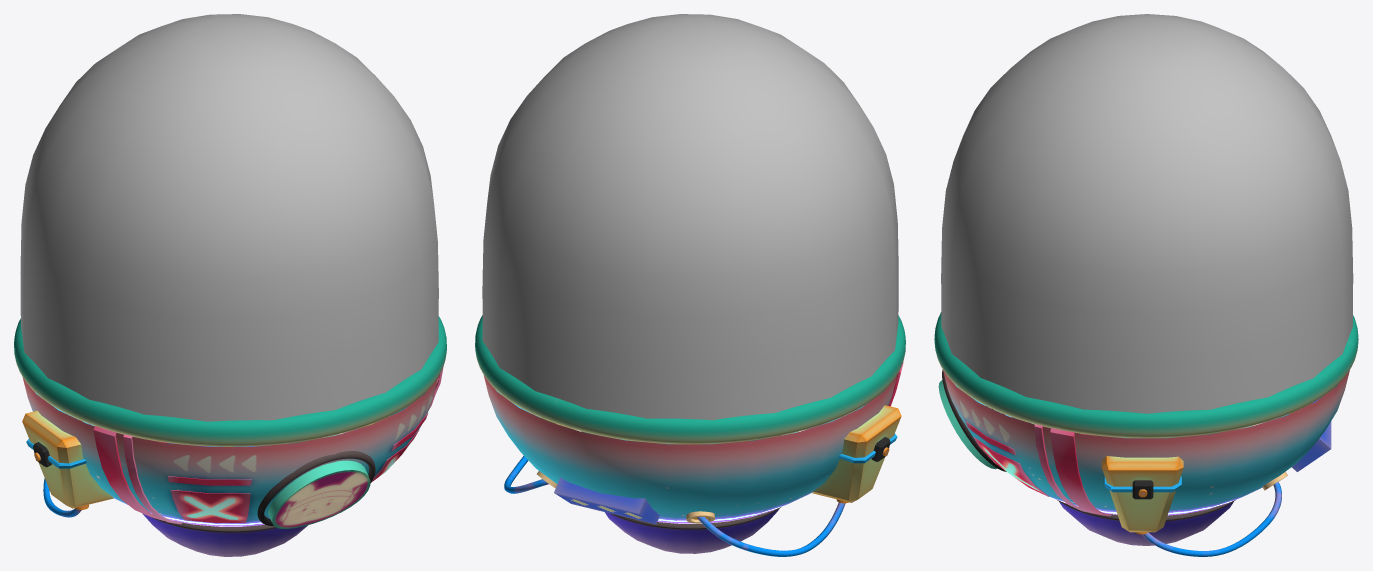
Rendered from bear+spaceship_model.fbx.
3 renders of one model, left to right at view 1: azimuth 30°, elevation 25°; view 2: azimuth 150°, elevation 25°; view 3: azimuth 270°, elevation 25°, orthographic. The views are drawn at different scales.
Parts seen in each view (by area): view 1: spaceship_body_inner_1.001; view 2: spaceship_body_inner_1.001; view 3: spaceship_body_inner_1.001.
Boxes of the visible parts, left/top/right/bottom form: spaceship_body_inner_1.001: left=14, top=14, right=446, bottom=556; spaceship_body_inner_1.001: left=475, top=14, right=905, bottom=556; spaceship_body_inner_1.001: left=934, top=14, right=1358, bottom=556.
Bounding box in the file's own units: 264 × 329 × 252.
